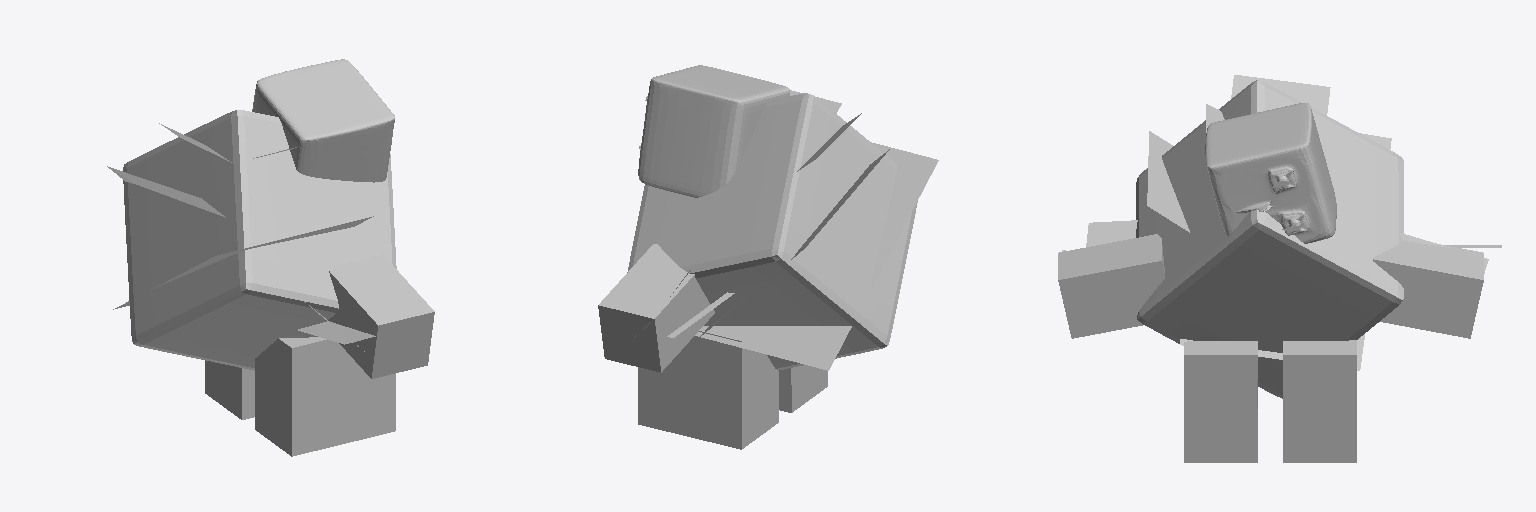
3 views of the same model, side by side, from view 1: azimuth 30°, elevation 25°; view 2: azimuth 150°, elevation 25°; view 3: azimuth 270°, elevation 25° (orthographic).
Parts seen in each view (by area): view 1: Cube_Cube.001, CollisionLL_Cube.003, Cube.001_Cube.002, Cube.005_Cube.007, Cube.003_Cube.004, RectT2_Plane.001, RectLA2_Plane.002, RectT1_Plane; view 2: Cube_Cube.001, Cube.001_Cube.002, Cube.003_Cube.004, Cube.004_Cube.005, RectT1_Plane, CollisionLL_Cube.003, RectT2_Plane.001; view 3: Cube_Cube.001, Cube.001_Cube.002, Cube.003_Cube.004, CollisionLL_Cube.003, Cube.005_Cube.007, Cube.004_Cube.005, RectT1_Plane, RectH2_Plane.007, RectLA1_Plane.003, RectT2_Plane.001.
Boxes of the visible parts, x1=… form: Cube_Cube.001: x1=123, y1=110, x2=396, y2=370; CollisionLL_Cube.003: x1=255, y1=337, x2=395, y2=456; Cube.001_Cube.002: x1=252, y1=59, x2=394, y2=182; Cube.005_Cube.007: x1=328, y1=254, x2=434, y2=378; Cube.003_Cube.004: x1=205, y1=360, x2=254, y2=419; RectT2_Plane.001: x1=107, y1=166, x2=225, y2=217; RectLA2_Plane.002: x1=298, y1=321, x2=375, y2=344; RectT1_Plane: x1=113, y1=216, x2=373, y2=309; Cube_Cube.001: x1=627, y1=93, x2=917, y2=370; Cube.001_Cube.002: x1=638, y1=65, x2=789, y2=197; Cube.003_Cube.004: x1=638, y1=330, x2=778, y2=449; Cube.004_Cube.005: x1=598, y1=244, x2=714, y2=372; RectT1_Plane: x1=695, y1=142, x2=938, y2=370; CollisionLL_Cube.003: x1=779, y1=365, x2=827, y2=412; RectT2_Plane.001: x1=676, y1=149, x2=889, y2=357; Cube_Cube.001: x1=1136, y1=80, x2=1403, y2=398; Cube.001_Cube.002: x1=1205, y1=103, x2=1336, y2=243; Cube.003_Cube.004: x1=1283, y1=340, x2=1356, y2=462; CollisionLL_Cube.003: x1=1184, y1=341, x2=1257, y2=462; Cube.005_Cube.007: x1=1058, y1=234, x2=1165, y2=338; Cube.004_Cube.005: x1=1373, y1=241, x2=1483, y2=338; RectT1_Plane: x1=1147, y1=131, x2=1360, y2=339; RectH2_Plane.007: x1=1231, y1=75, x2=1330, y2=115; RectLA1_Plane.003: x1=1086, y1=220, x2=1137, y2=246; RectT2_Plane.001: x1=1180, y1=109, x2=1391, y2=370.
Bounding box in the file's own units: 2.09 × 2.68 × 3.31.